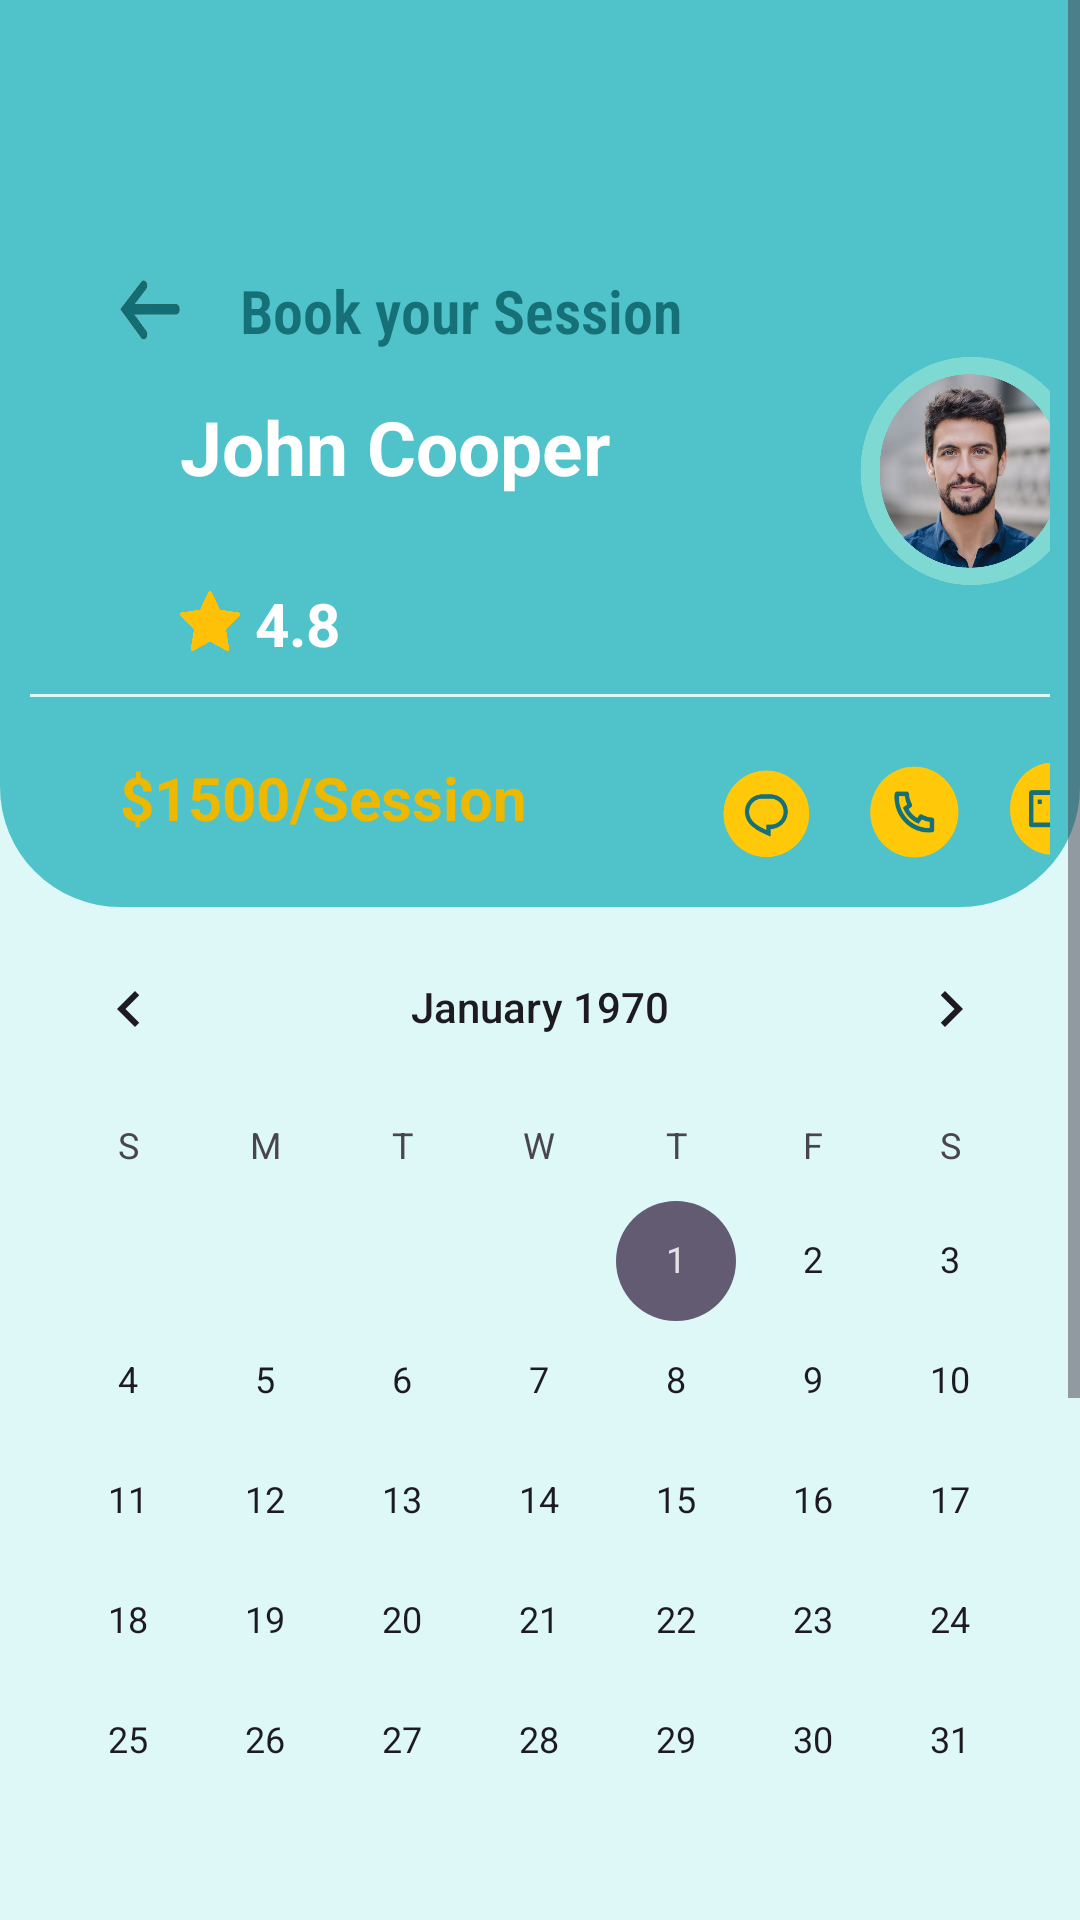

Named icons in this screenshot (1080×1920) and their bounding boxes, [left=x1, top=y1, right=x2, bottom=y2]:
back arrow: [left=120, top=280, right=180, bottom=339]
message: [left=723, top=770, right=810, bottom=857]
phone: [left=870, top=766, right=959, bottom=858]
rating star: [left=180, top=591, right=240, bottom=651]
